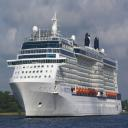cruises: (7, 19, 125, 120)
